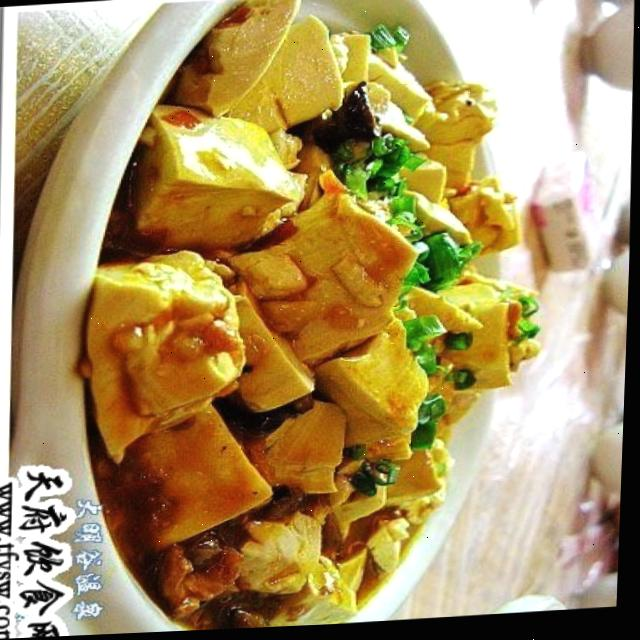豆腐料理: (67, 0, 535, 637)
